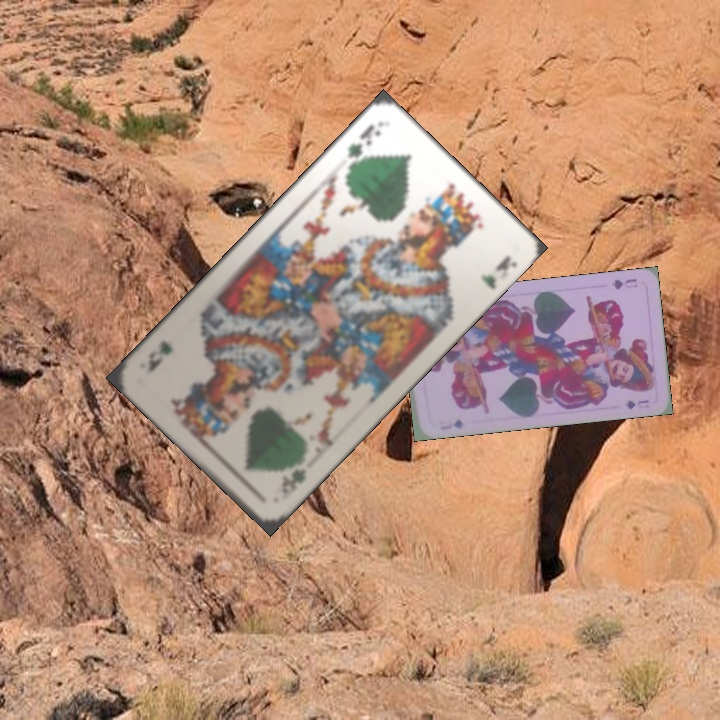GK: (343, 119, 384, 172), (277, 464, 309, 502)
GU: (607, 274, 640, 292), (436, 416, 467, 432)
